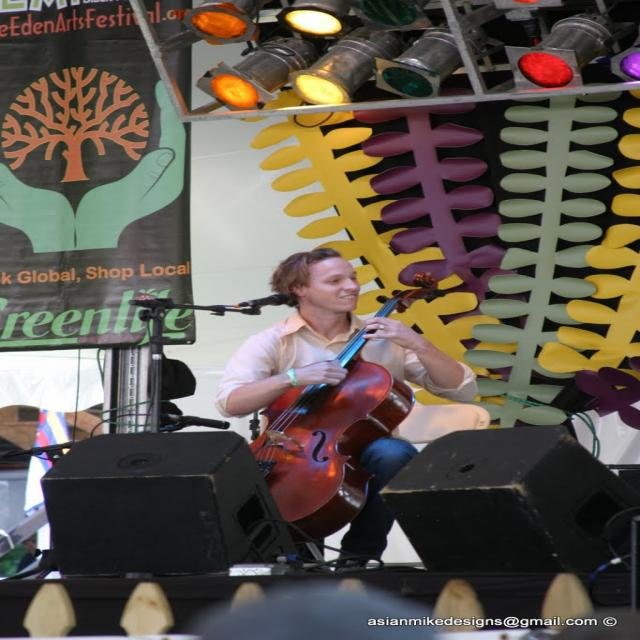cello: (233, 270, 442, 536)
